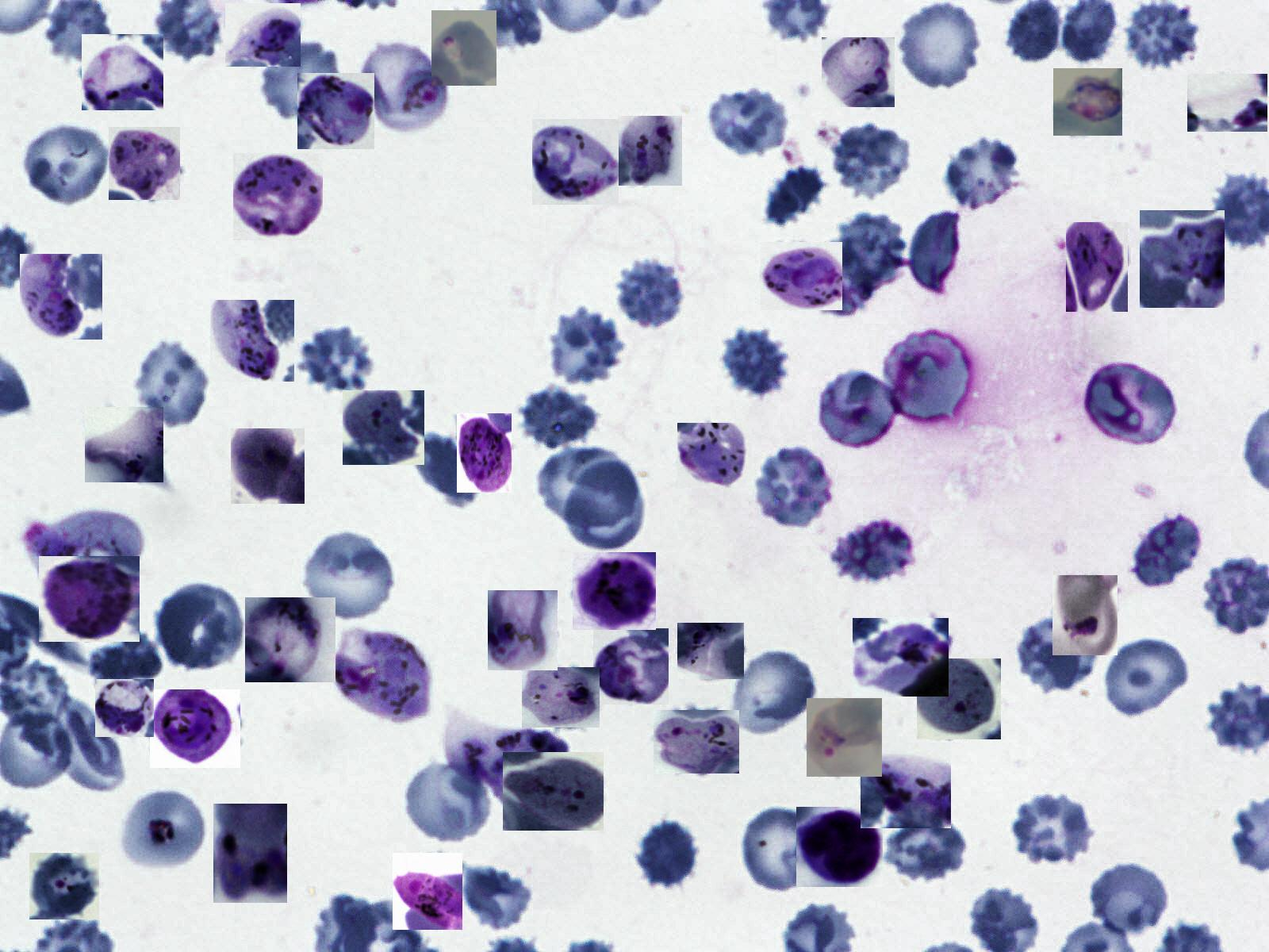Infected: (330, 626, 434, 725), (443, 710, 571, 785), (24, 507, 147, 580), (40, 556, 140, 642), (119, 784, 211, 875), (1140, 210, 1225, 308), (364, 40, 450, 135), (503, 752, 604, 831), (233, 153, 323, 240), (861, 743, 951, 828), (245, 597, 335, 682), (853, 618, 949, 697), (532, 119, 619, 205), (213, 804, 287, 903), (150, 689, 240, 768), (20, 254, 102, 340), (796, 807, 883, 887), (210, 300, 294, 382), (917, 658, 1001, 739), (573, 552, 656, 630), (82, 34, 163, 110), (343, 390, 424, 465), (807, 698, 882, 777), (297, 73, 374, 149), (85, 407, 163, 482), (593, 628, 669, 704), (231, 428, 305, 504), (488, 590, 558, 670), (1066, 222, 1128, 312), (761, 242, 842, 310), (654, 710, 740, 774), (393, 853, 462, 930), (1052, 575, 1118, 655), (109, 128, 180, 201), (822, 37, 895, 107), (431, 10, 496, 86), (677, 423, 752, 488), (225, 3, 301, 67), (1053, 68, 1122, 136), (522, 667, 600, 727), (1187, 74, 1267, 132), (29, 853, 99, 919), (618, 116, 682, 186), (457, 413, 512, 493), (677, 623, 744, 679), (95, 679, 154, 737)
Uninfected: (1082, 359, 1183, 450), (301, 526, 397, 620), (888, 328, 976, 427), (736, 804, 826, 896), (18, 119, 112, 206), (727, 648, 817, 737), (51, 693, 128, 795), (156, 582, 243, 670), (1101, 635, 1193, 718), (132, 337, 213, 431), (563, 459, 642, 555), (401, 761, 491, 845), (540, 451, 636, 529), (816, 365, 902, 451), (899, 3, 981, 90), (753, 446, 836, 531), (258, 40, 339, 125), (1010, 791, 1098, 869), (827, 120, 913, 197), (1091, 859, 1172, 940), (942, 132, 1023, 212), (512, 382, 602, 453), (1010, 618, 1097, 691), (547, 305, 625, 383), (877, 816, 972, 880), (836, 212, 906, 297), (829, 517, 916, 585), (297, 322, 375, 397), (1121, 0, 1202, 70), (412, 430, 481, 512), (708, 88, 795, 153), (803, 239, 875, 316), (1131, 516, 1210, 585), (615, 255, 689, 328), (634, 817, 704, 894), (722, 327, 788, 401), (462, 863, 531, 931), (87, 629, 163, 689), (911, 209, 964, 295), (766, 164, 827, 228), (1005, 1, 1063, 63)
